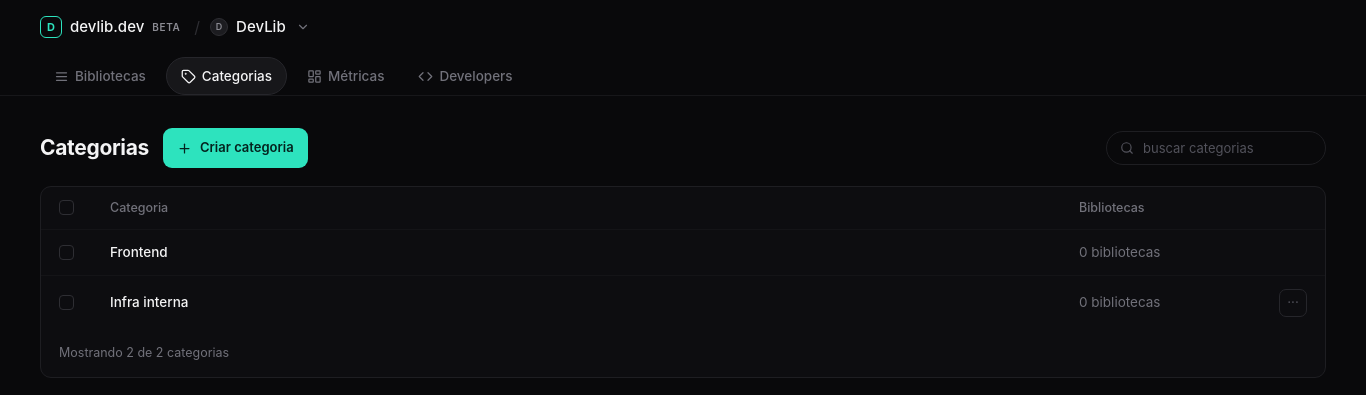
it: ProjectCategoriesPage › filtra as categorias pelo campo de busca
Expected: the text "Frontend" is shown, [92,229,1061,275]
Type "infra" into the field with placeholder "buscar categorias" at (1216, 148), box [1106,131,1326,165]
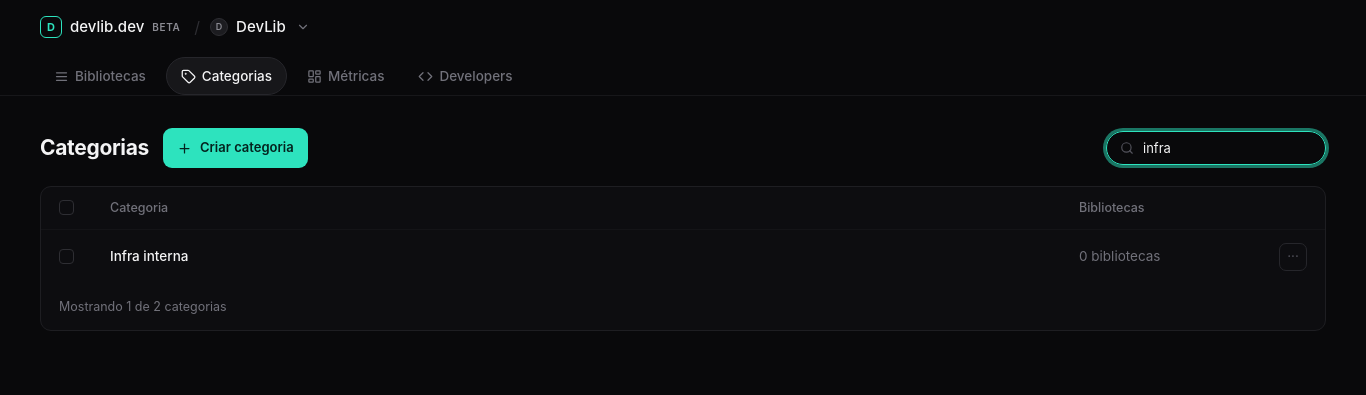
Expected: the text "Infra interna" is shown, [92,229,1061,284]
Result: the text "Frontend" is gone
Result: the text "Mostrando 1 de 2 categorias" is shown at [59,298,227,316]
